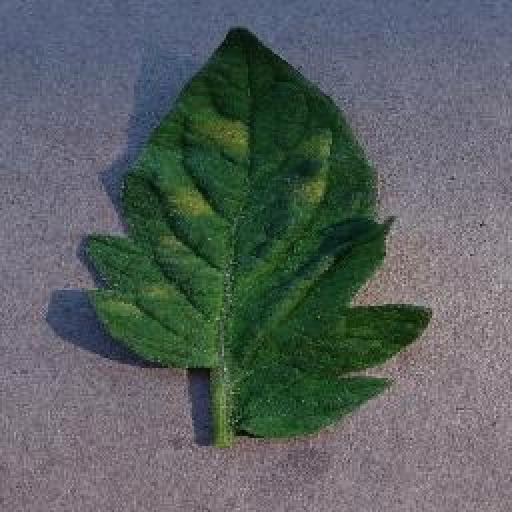disease_tomato: (82, 24, 435, 438)
